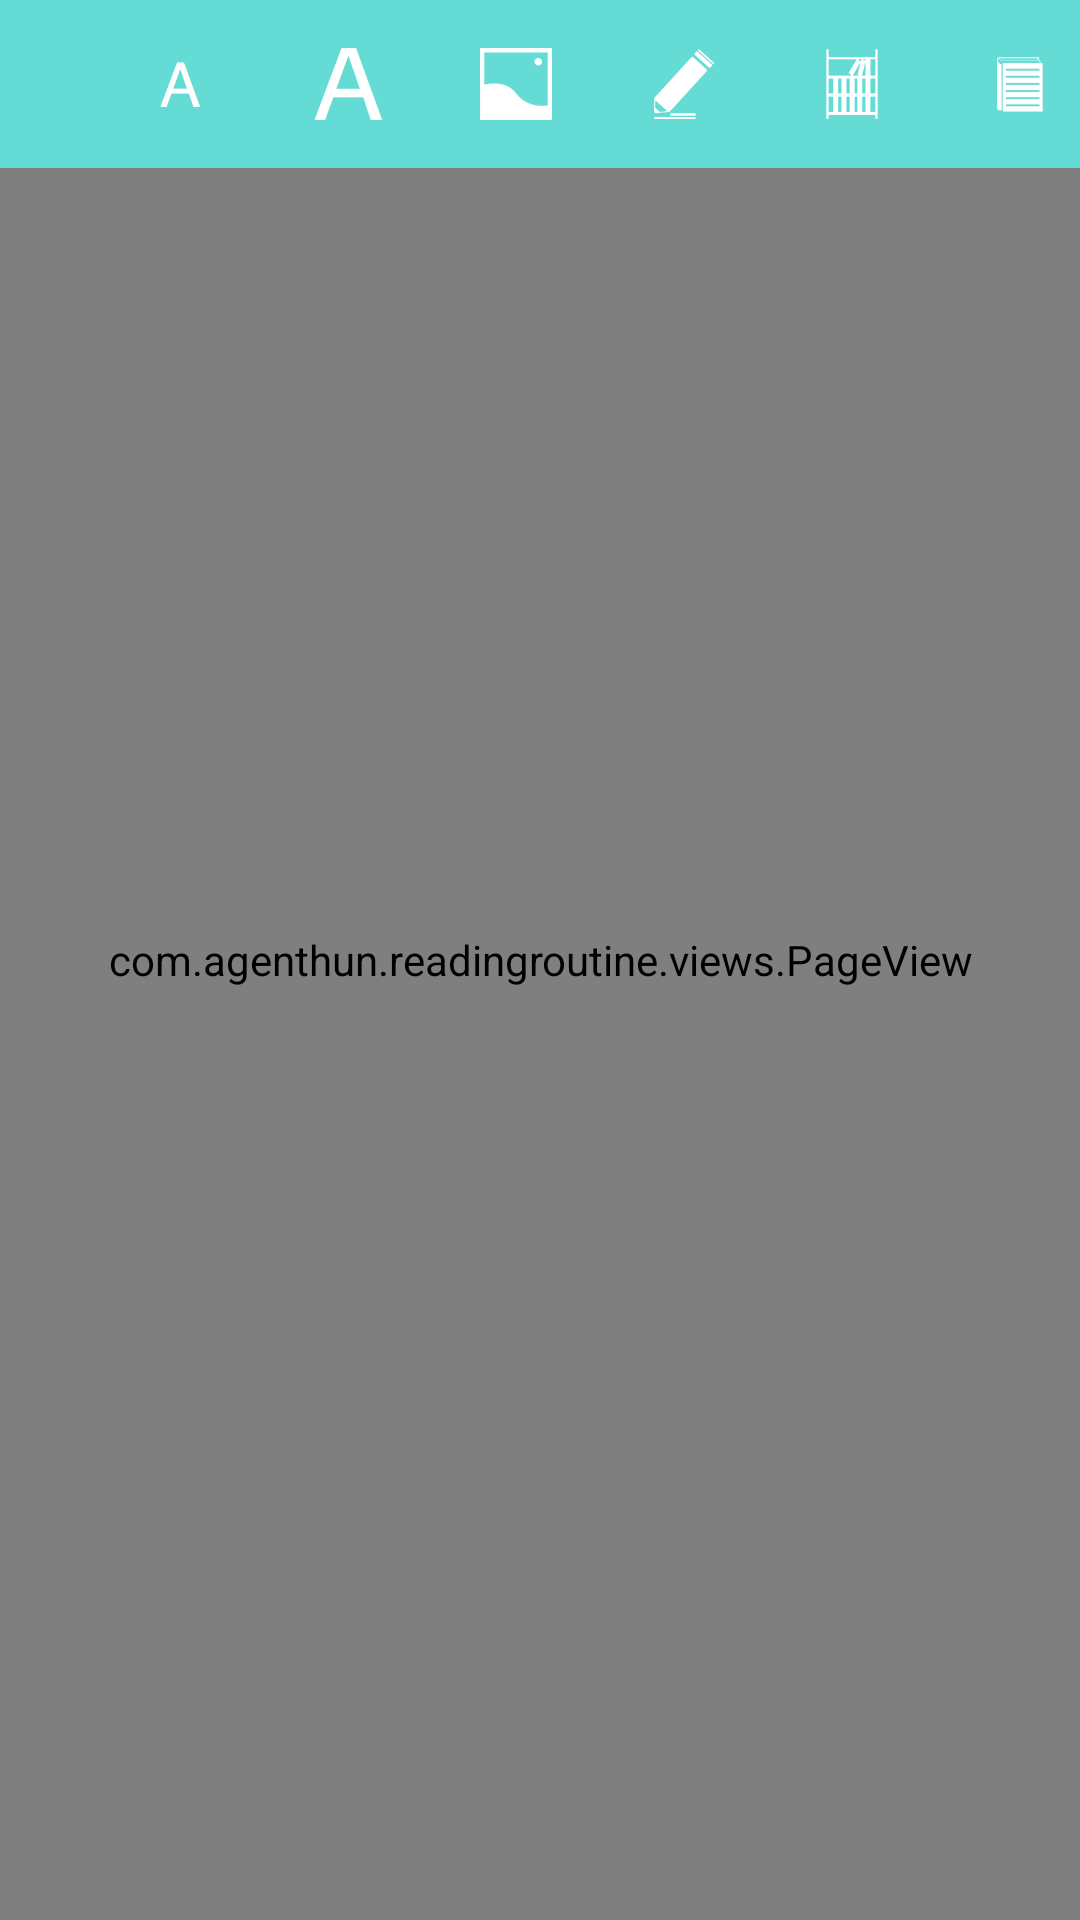

Locate icon controls on the screen. Image size 1080 x 1920, boxes as (x1, y1, x2, y2).
decrease font: (160, 62, 201, 107)
increase font: (315, 48, 383, 120)
marking: (654, 49, 714, 119)
reading list: (826, 49, 878, 119)
